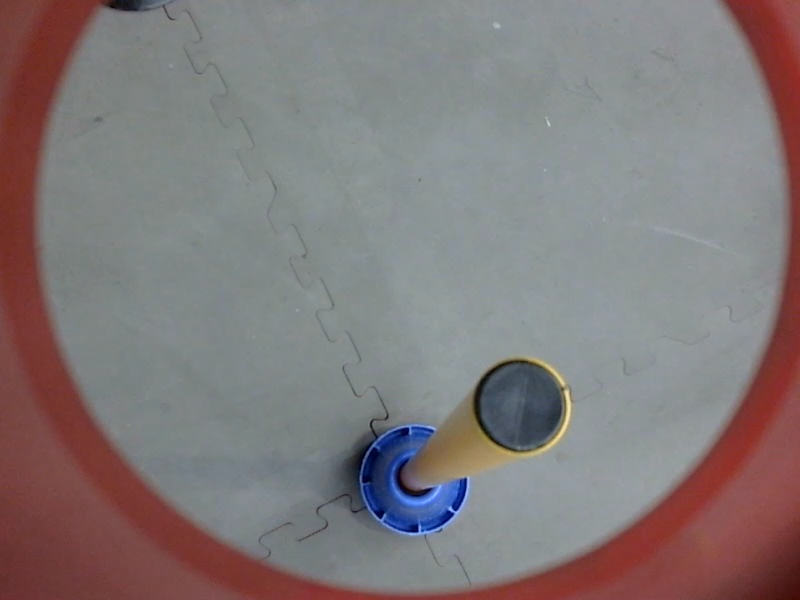tip: (465, 353, 578, 465)
